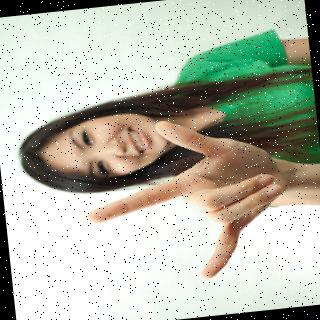I Love You: (76, 102, 285, 292)
